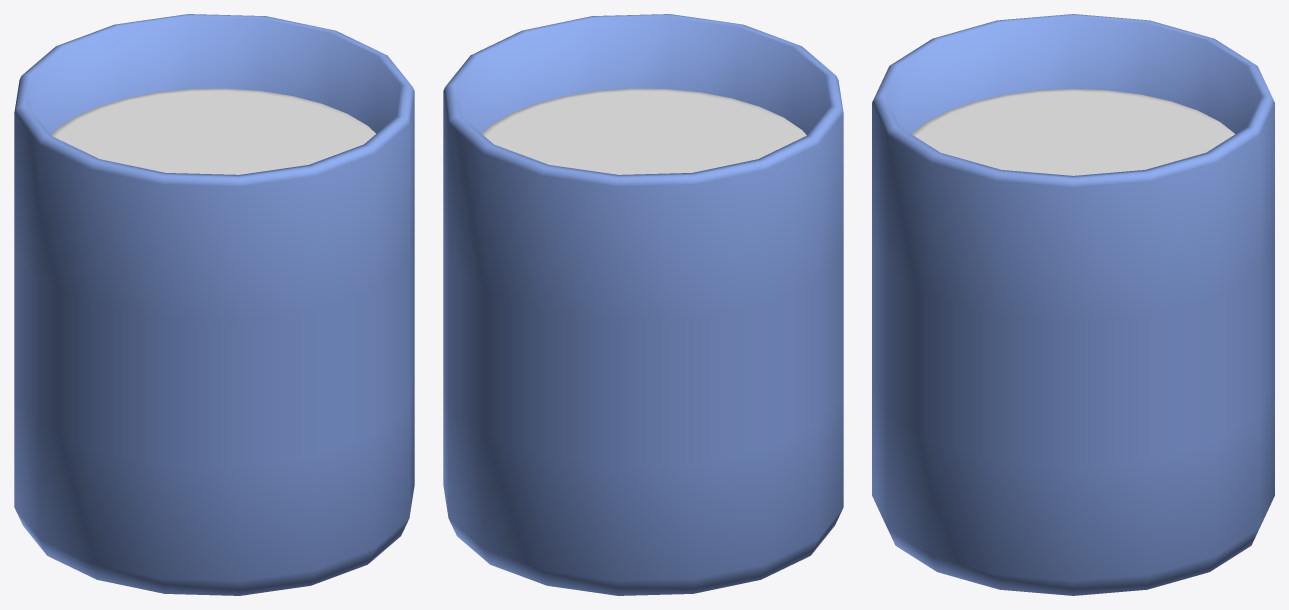
File: Bicchiere_con_Latte.fbx
3 views of the same model, side by side, from view 1: azimuth 30°, elevation 25°; view 2: azimuth 150°, elevation 25°; view 3: azimuth 270°, elevation 25° (orthographic).
Parts seen in each view (by area): view 1: Bicchiere, Latte; view 2: Bicchiere, Latte; view 3: Bicchiere, Latte.
Part boxes in pixels (left/top/right/bottom): Bicchiere: left=14, top=14, right=414, bottom=595; Latte: left=51, top=88, right=375, bottom=174; Bicchiere: left=443, top=14, right=843, bottom=595; Latte: left=482, top=88, right=806, bottom=174; Bicchiere: left=872, top=14, right=1274, bottom=595; Latte: left=911, top=89, right=1235, bottom=175.
Bounding box in the file's own units: 30 × 35 × 30.
